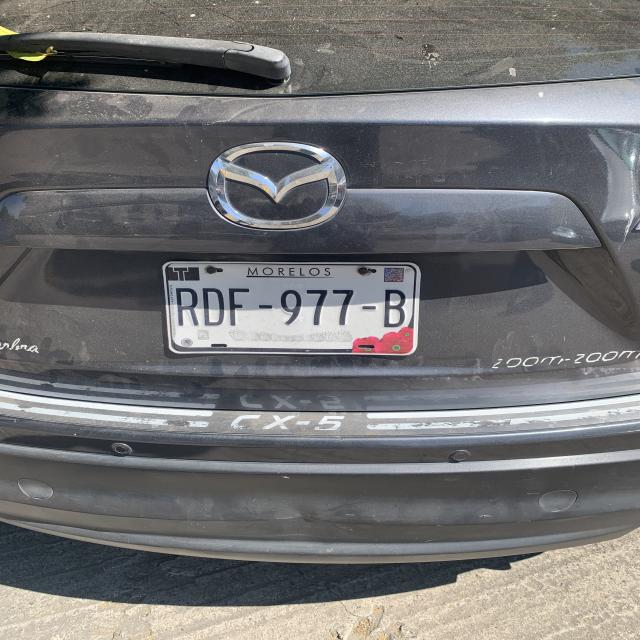placa: (172, 284, 414, 329)
